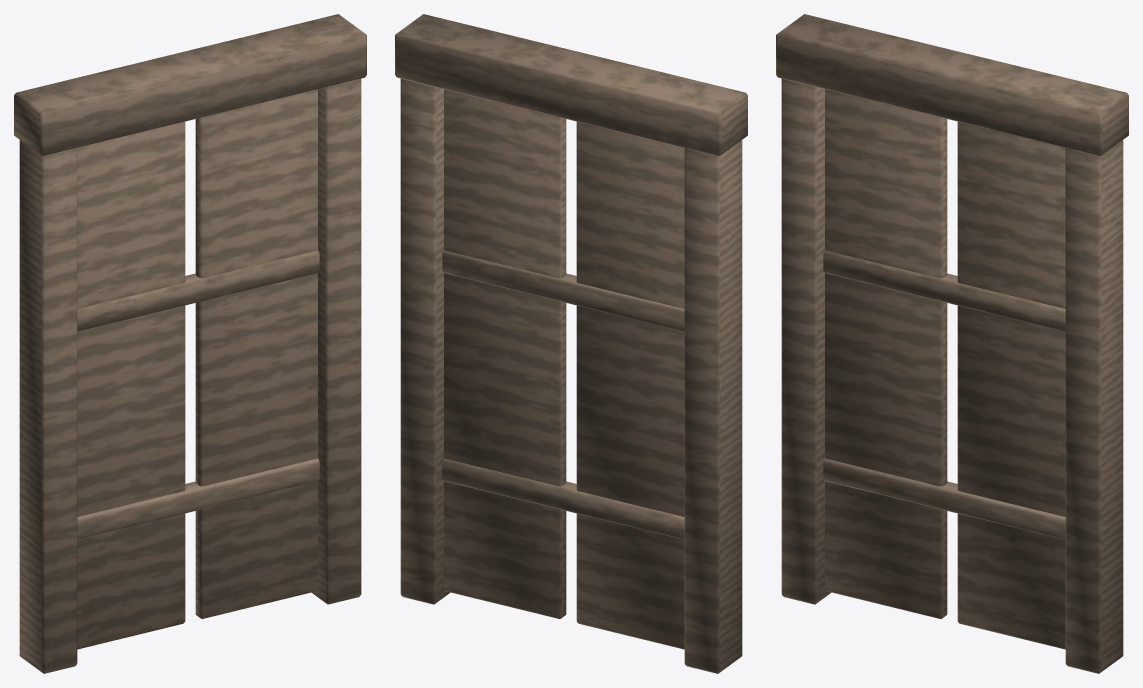
Rendered from door-frame.glb.
3 renders of one model, left to right at view 1: azimuth 30°, elevation 25°; view 2: azimuth 150°, elevation 25°; view 3: azimuth 330°, elevation 25°, orthographic.
Visible parts, largest first — view 1: door_frame; view 2: door_frame; view 3: door_frame.
Part boxes in pixels (<box>): door_frame: <box>14,14,366,673</box>; door_frame: <box>395,14,747,673</box>; door_frame: <box>776,14,1128,673</box>.
Size of the model in its own units: 2.3 by 3.8 by 0.35.
Materials: 1 (1 with a texture image).
